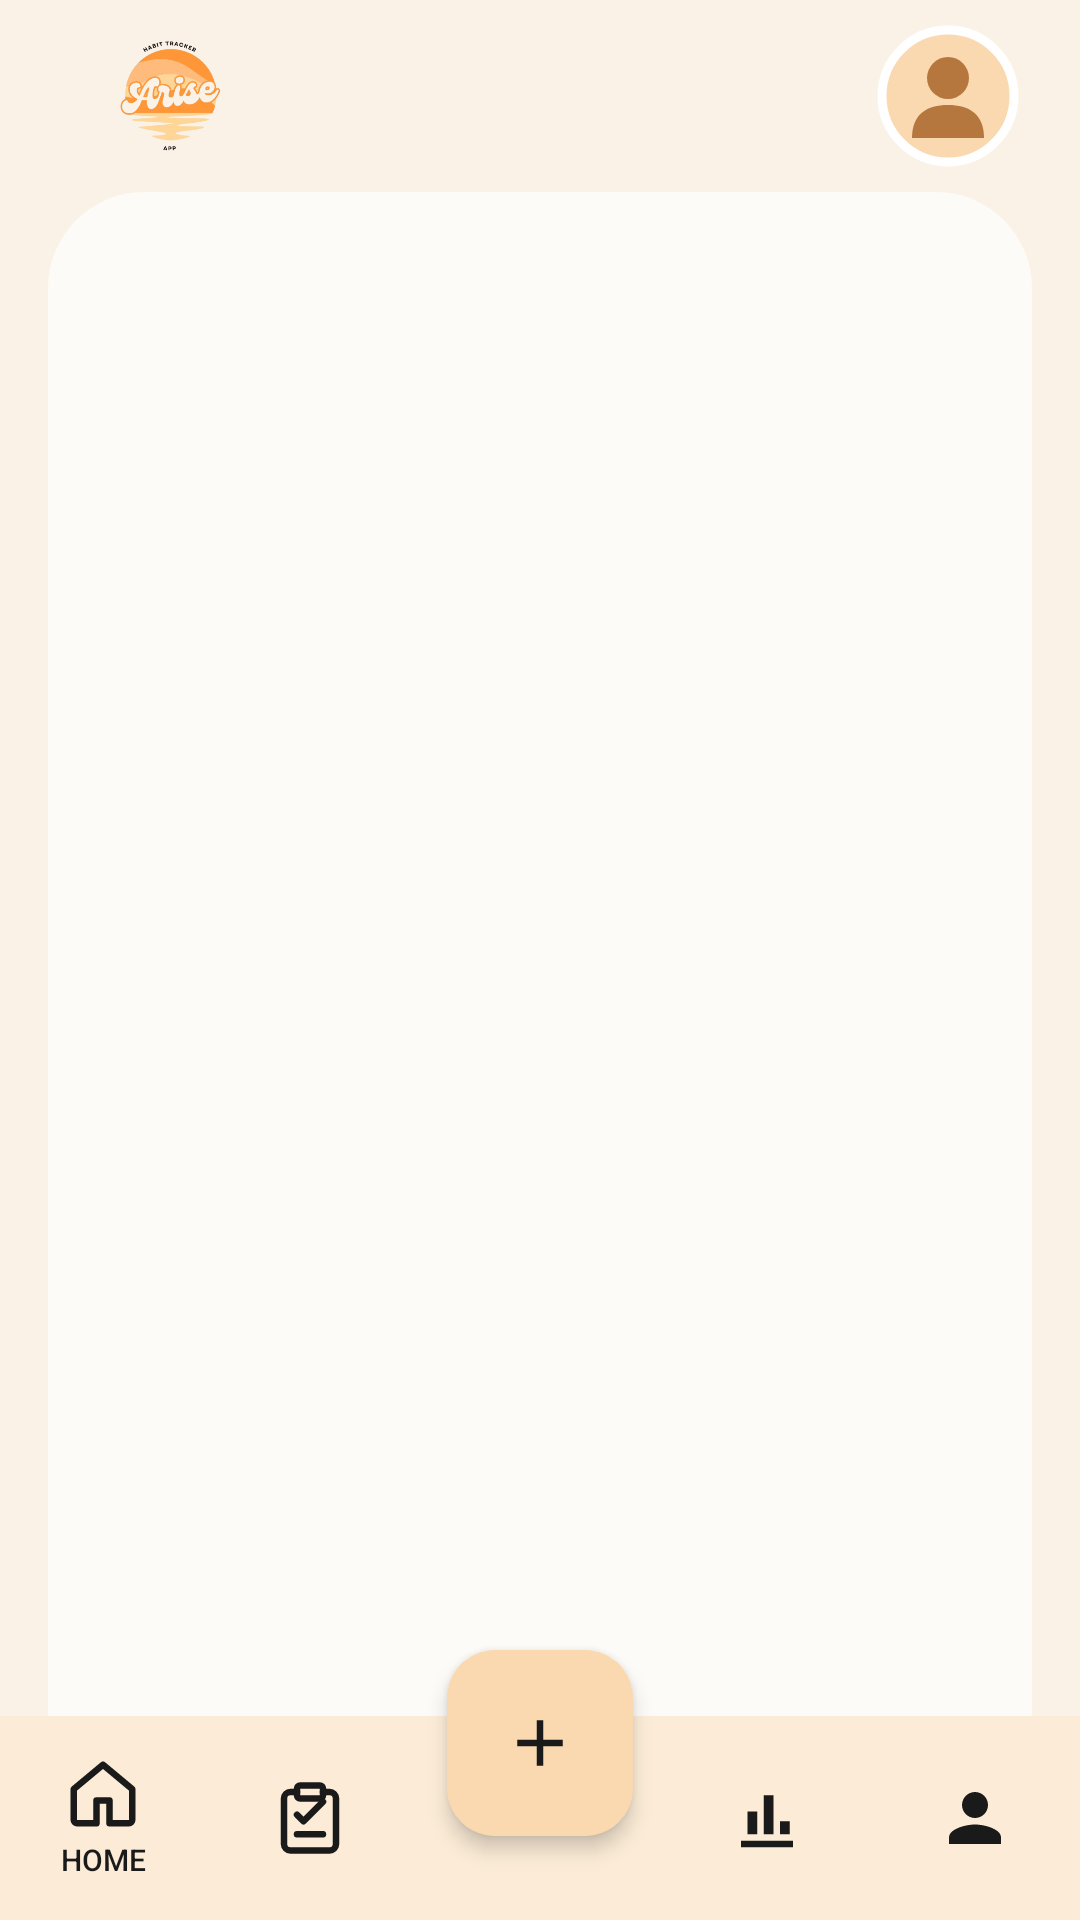

Icons on this 1080 × 1920 Android screen, each with the point to tap as (x,y):
Add Habit: (540,1743)
chart: (767,1821)
clipboard: (310,1818)
user: (975,1818)
